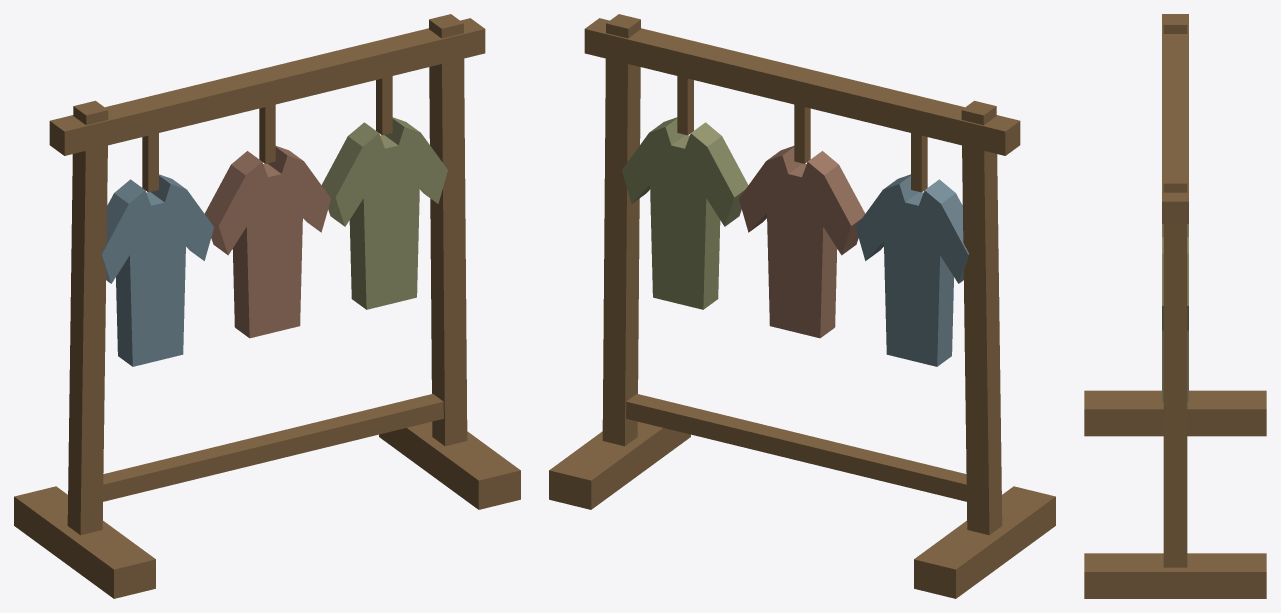
Rendered from shop_Garment_rack_2tile.glb.
3 renders of one model, left to right at view 1: azimuth 30°, elevation 25°; view 2: azimuth 150°, elevation 25°; view 3: azimuth 270°, elevation 25°, orthographic. The views are drawn at different scales.
Visible parts, largest first — view 1: shop_Garment_rack_2tile; view 2: shop_Garment_rack_2tile; view 3: shop_Garment_rack_2tile.
Part boxes in pixels (x1=…): shop_Garment_rack_2tile: x1=14, y1=14, x2=520, y2=598; shop_Garment_rack_2tile: x1=549, y1=14, x2=1055, y2=598; shop_Garment_rack_2tile: x1=1084, y1=14, x2=1266, y2=598.
Size of the model in its own units: 1.8 by 1.83 by 0.74.
